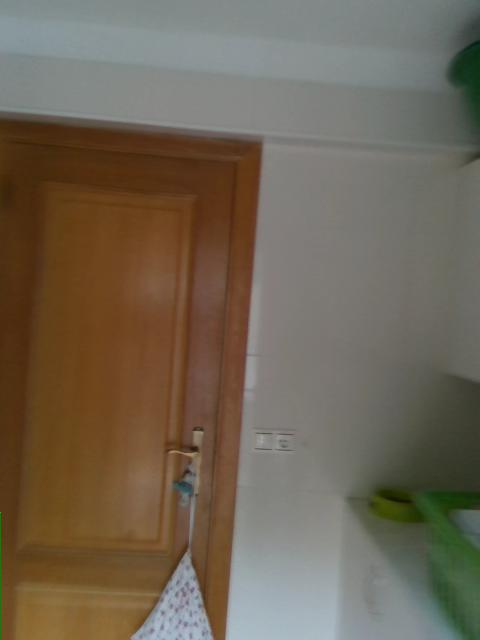door: (0, 112, 266, 639)
